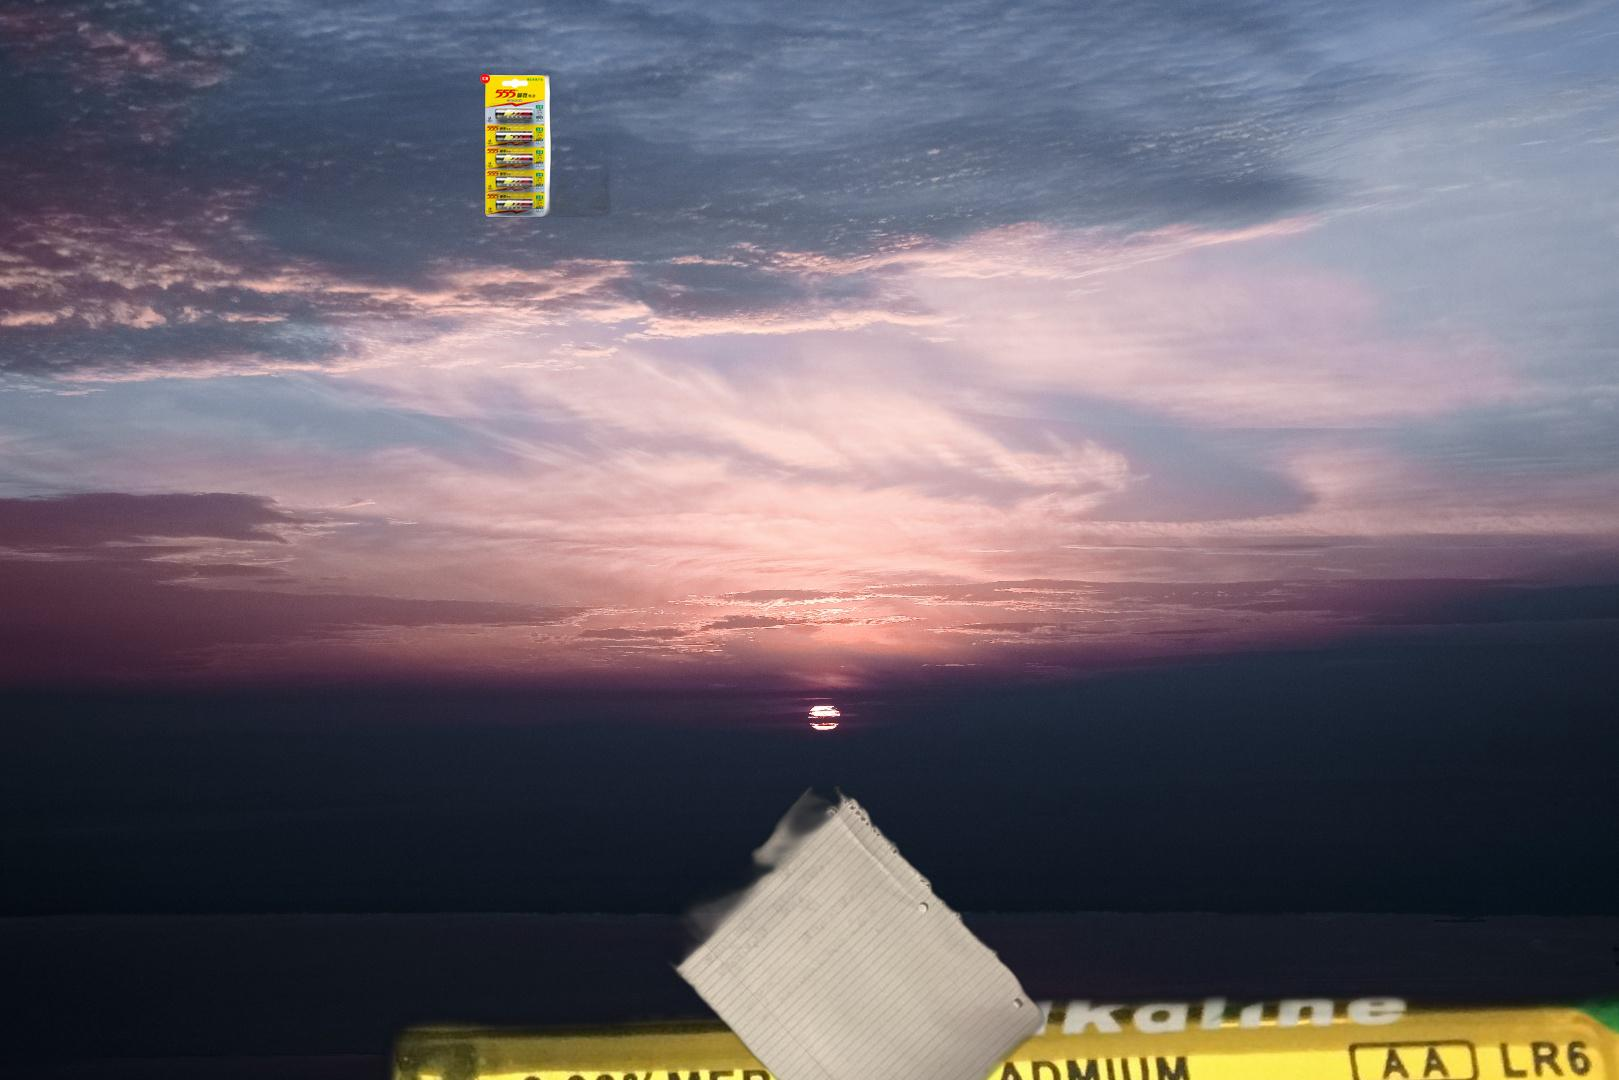battery: (129, 961, 1619, 1080), (477, 70, 617, 221)
paper: (583, 786, 1050, 1080)
